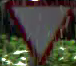Give way: (4, 0, 75, 63)
